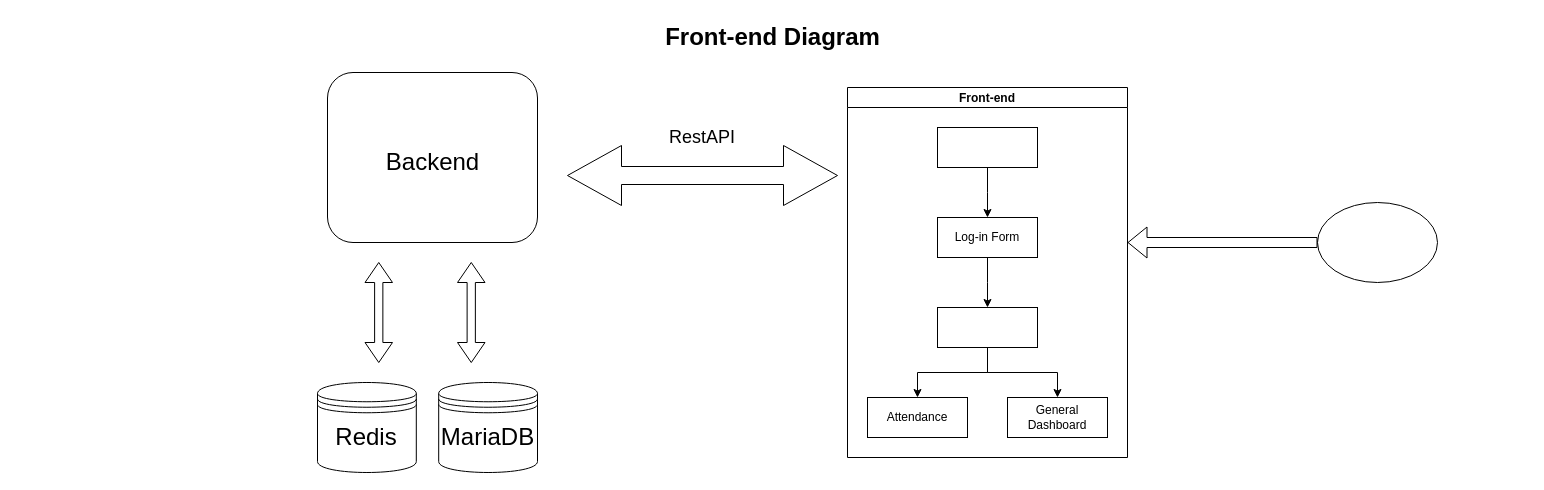
The diagram is 1544 pixels wide and 490 high, and some of its shapes have lost their labels. The centre of each missing label's shape, as x and y in pixels:
"Choosing Student Component" belongs at (x=987, y=327).
"Main Component" belongs at (x=987, y=147).
"Users" belongs at (x=1377, y=242).
